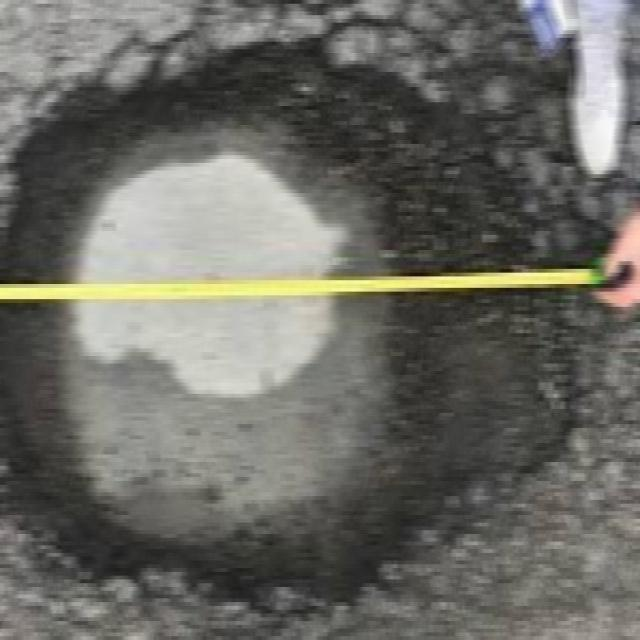Pothole: (0, 28, 597, 618)
